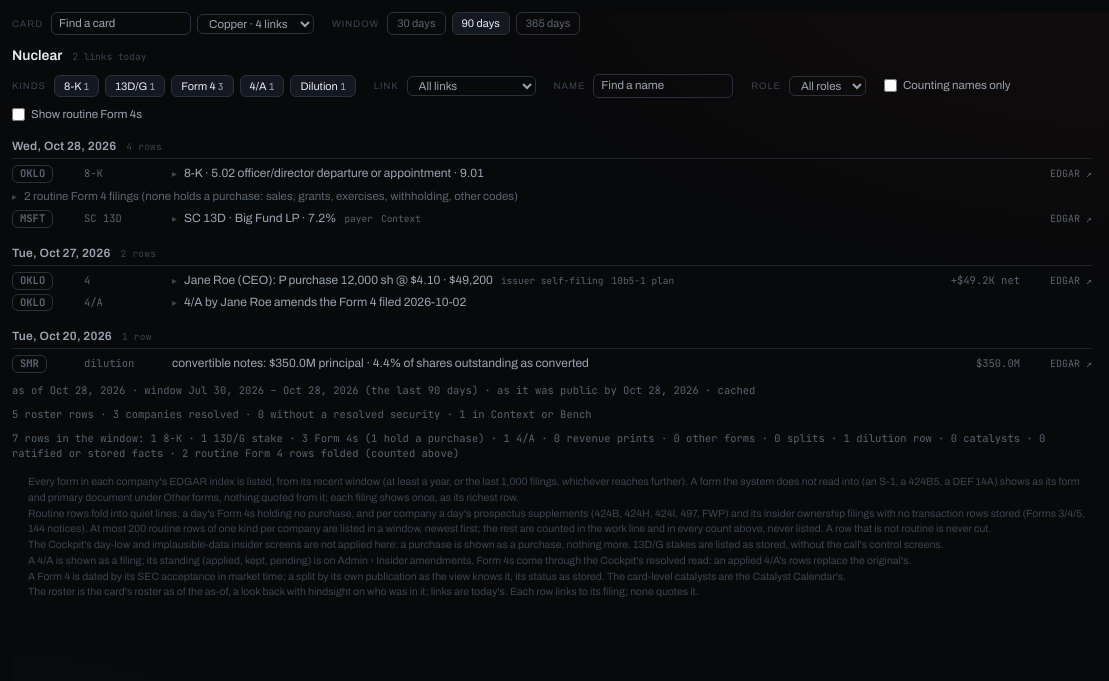
Test case: FilingStream › opens a row to its detail lines, and a 4/A to the Admin page for its standing
The image size is (1109, 681).
Click the button "5.02 officer/director".
click(328, 174)  # box [172,165,484,182]
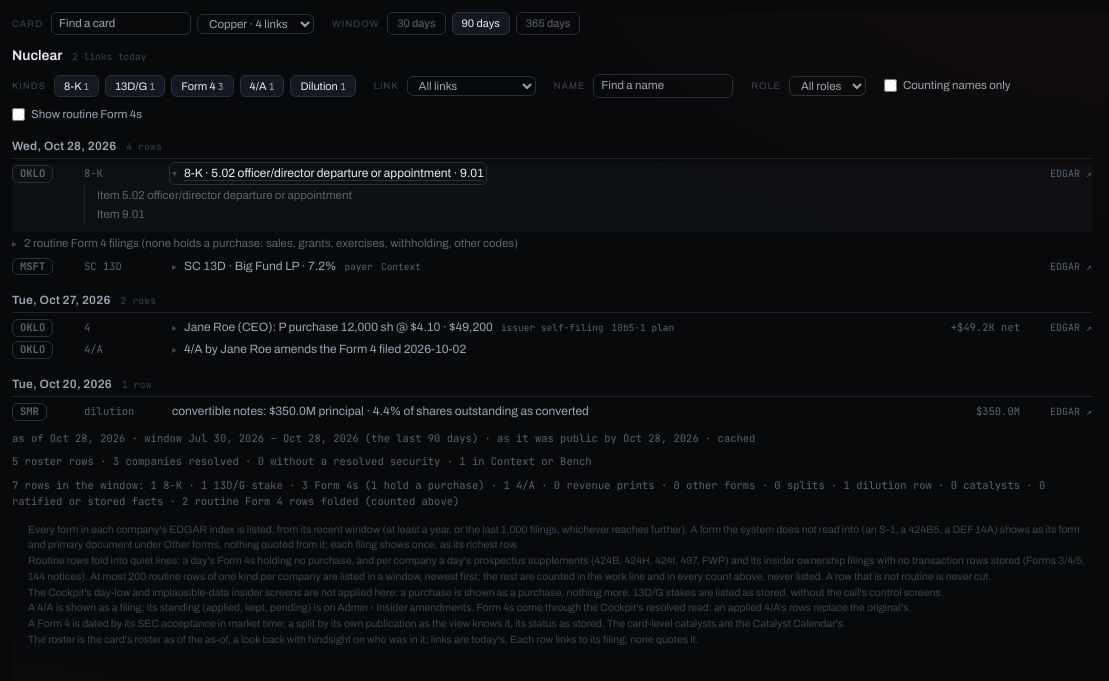
Expected: the button "5.02 officer/director" is expanded
Expected: the list item "Item 9.01" is shown, [97,208,145,220]
Click the button "5.02 officer/director".
click(328, 174)  # box [172,165,484,182]
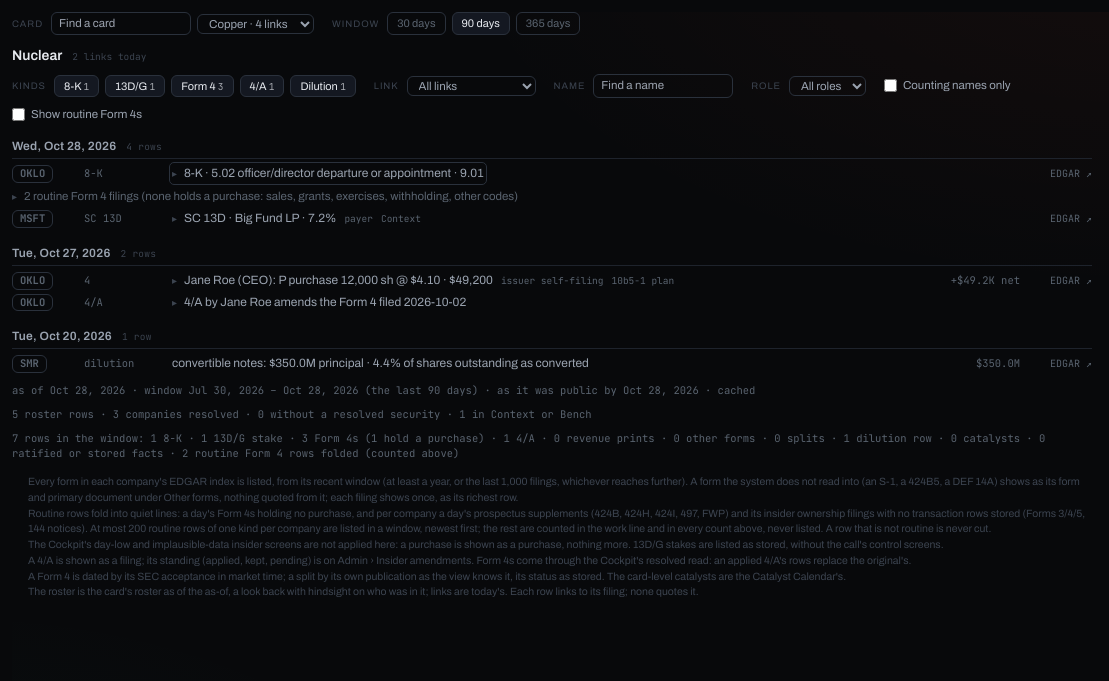
Expected: the element with test id "fs-detail" is gone
Click the button "▸ 4/A by Jane Roe amends the Form 4 filed 2026-10-02".
click(319, 302)  # box [172,294,466,311]
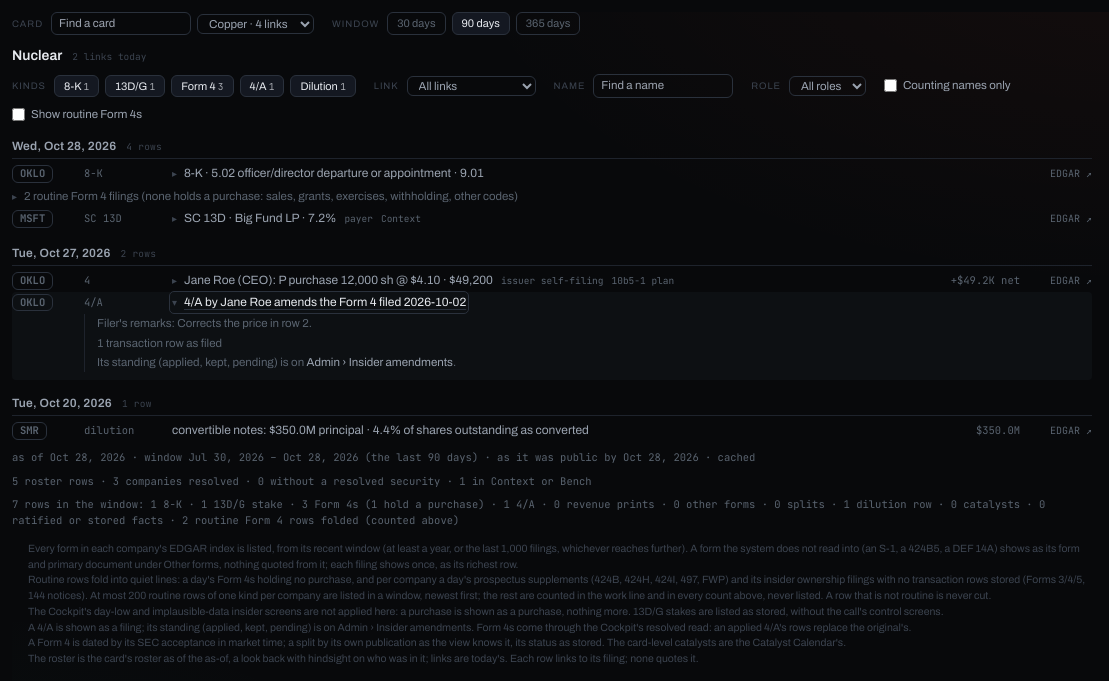
Expected: the text "convertible notes: $350.0M principal" is shown, [172,423,589,437]
Expected: the list item "Filer's remarks: Corrects the price in row 2." is shown, [97,317,312,329]
